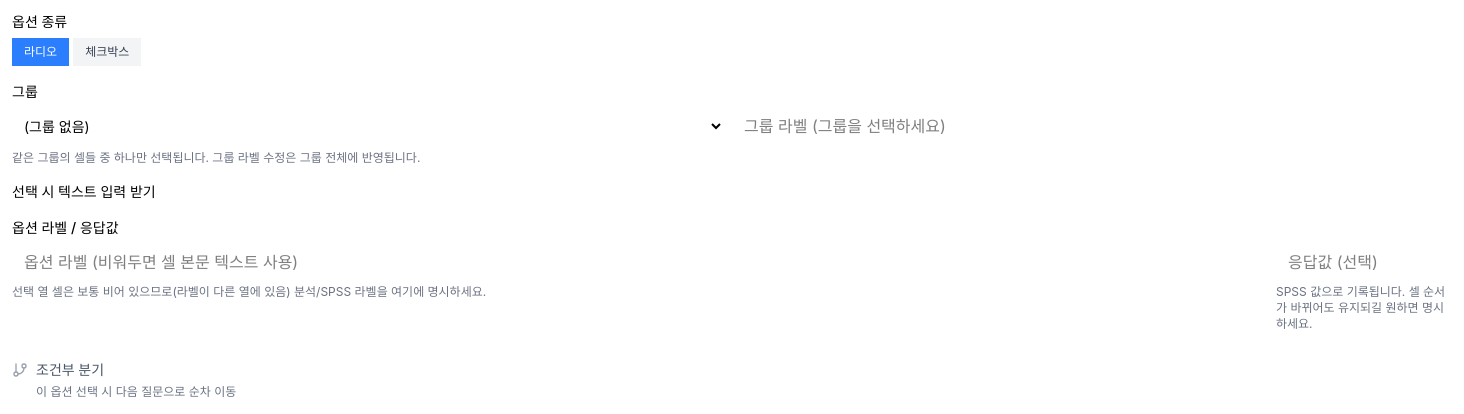
Test case: ChoiceOptCellTab — 옵션 그룹 지정 UI › 체크박스 종류에서 안내 문구가 체크박스용으로 바뀐다
The image size is (1464, 414).
Expected: the text "같은 그룹의 셀들 중 하나만 선택됩니다. 그룹 라벨 수정은 그룹 전체에 반영됩니다." is shown, [12,150,420,165]
체크박스로 전환
Click the button "체크박스" at (107, 52), box [73,38,141,66]
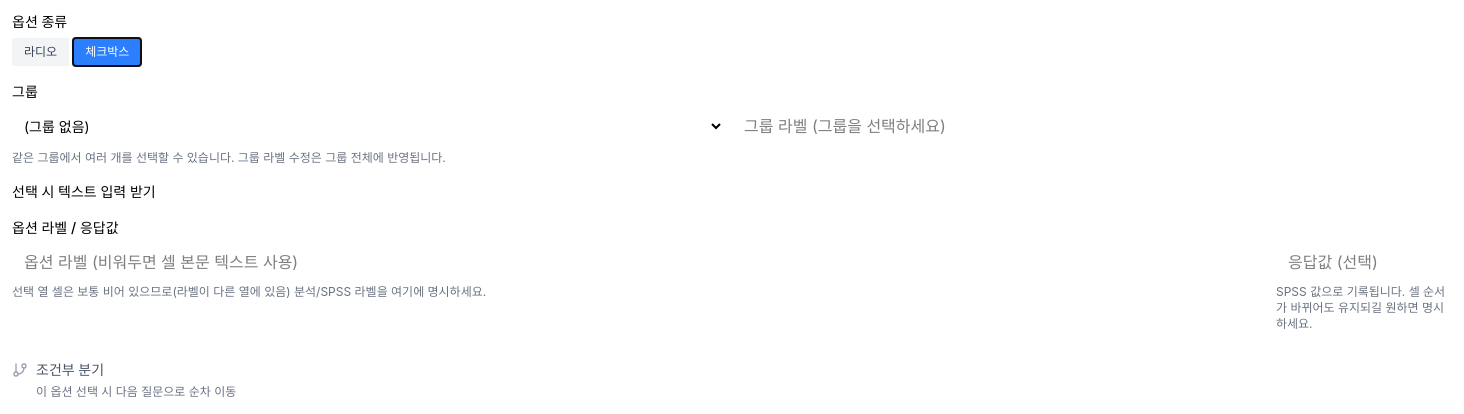
Result: the text "같은 그룹에서 여러 개를 선택할 수 있습니다. 그룹 라벨 수정은 그룹 전체에 반영됩니다." is shown at [12,150,446,165]
Result: the text "하나만 선택됩니다" is gone
